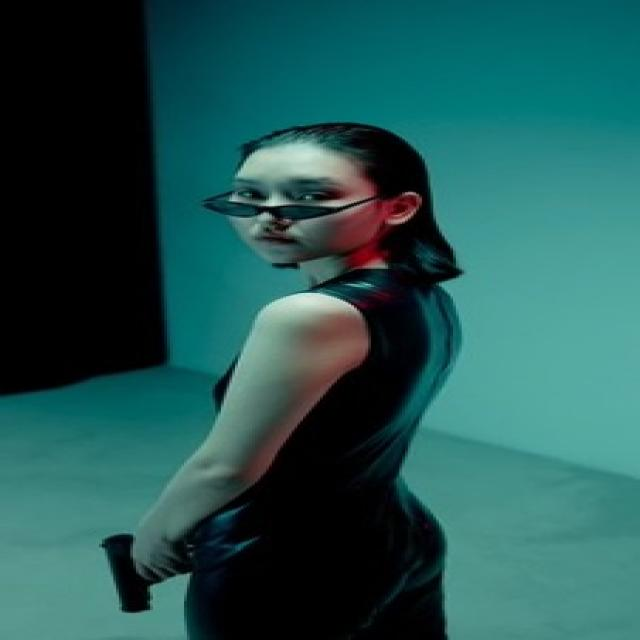Gun_Holder: (58, 519, 200, 612)
Person: (152, 122, 494, 636)
